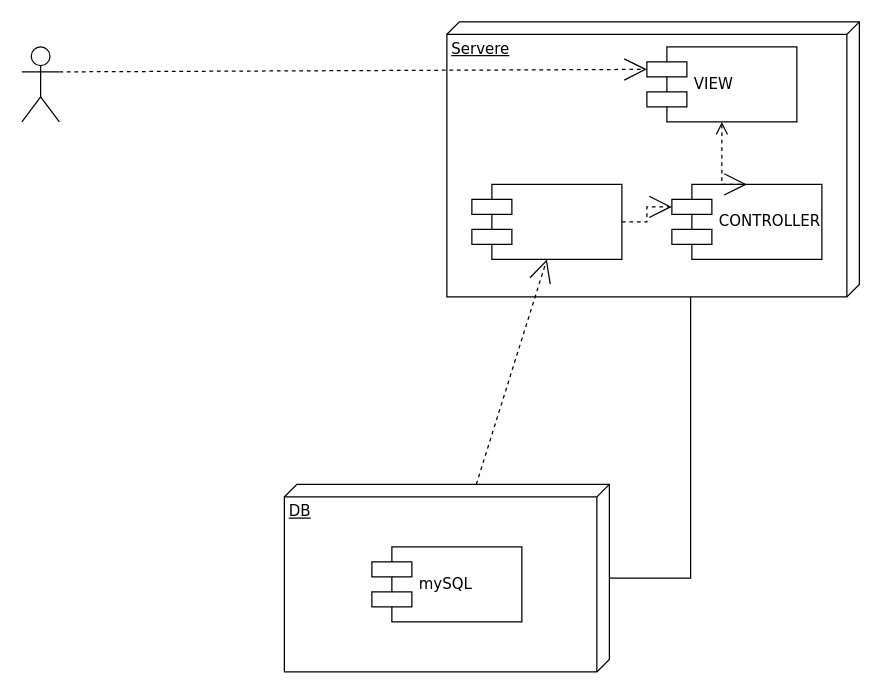
The diagram is 881 pixels wide and 694 high, and some of its shapes have lost their labels. The centre of each missing label's shape, as x and y in pixels:
Actor: (40,84)
MODEL: (546,221)
